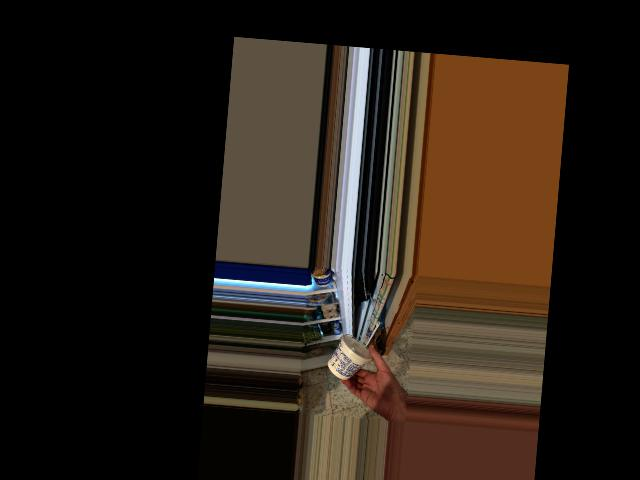cotage: (331, 339, 377, 381)
